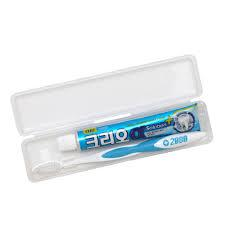toothpaste: (53, 107, 200, 153)
